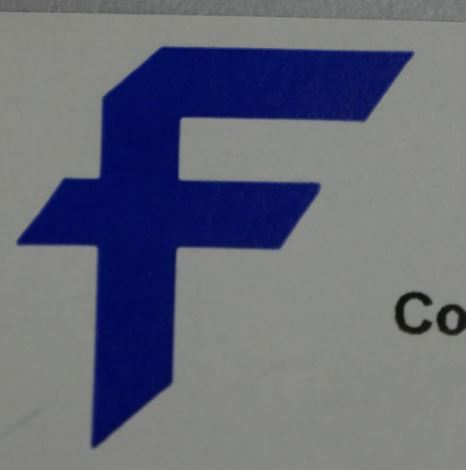Fisher: (14, 46, 418, 451)
